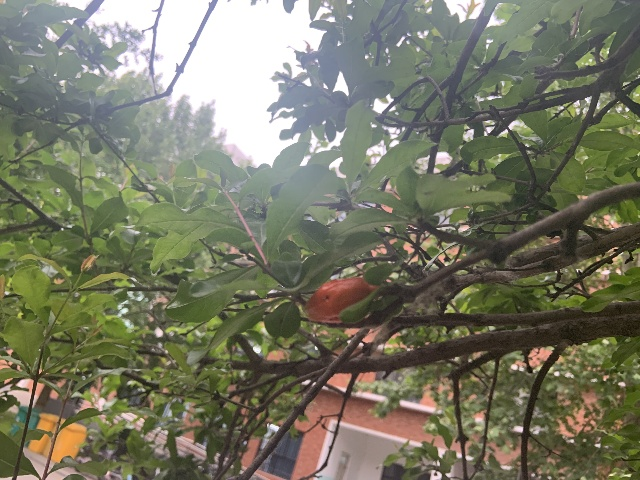bud: (305, 276, 377, 323)
